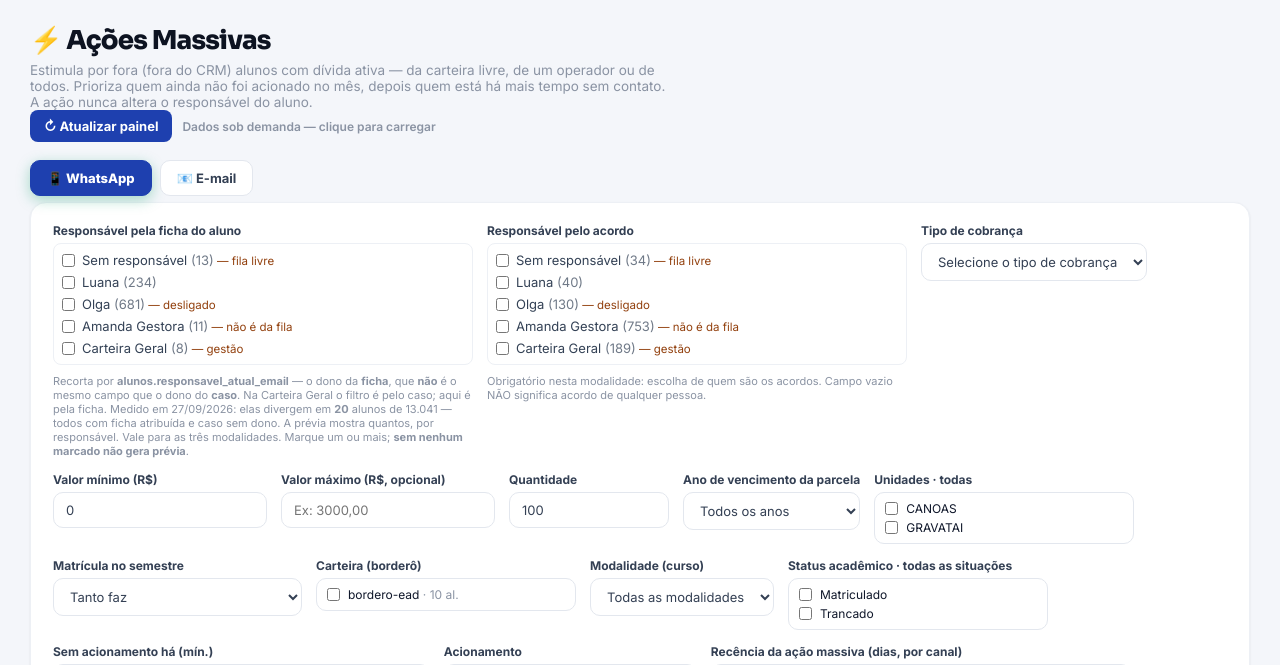
Test: Ações Massivas — liquidados no Prime › sem exclusão pelo Prime, a mensagem não menciona o assunto
Check: the checkbox labelled "Matriculado" is shown, box [799, 588, 812, 601]
Check: the element with test id "resp-caso" is shown, box [53, 243, 473, 365]
Click the checkbox with id "resp-caso-SEM_RESPONSAVEL" at (68, 260), box [62, 254, 75, 266]
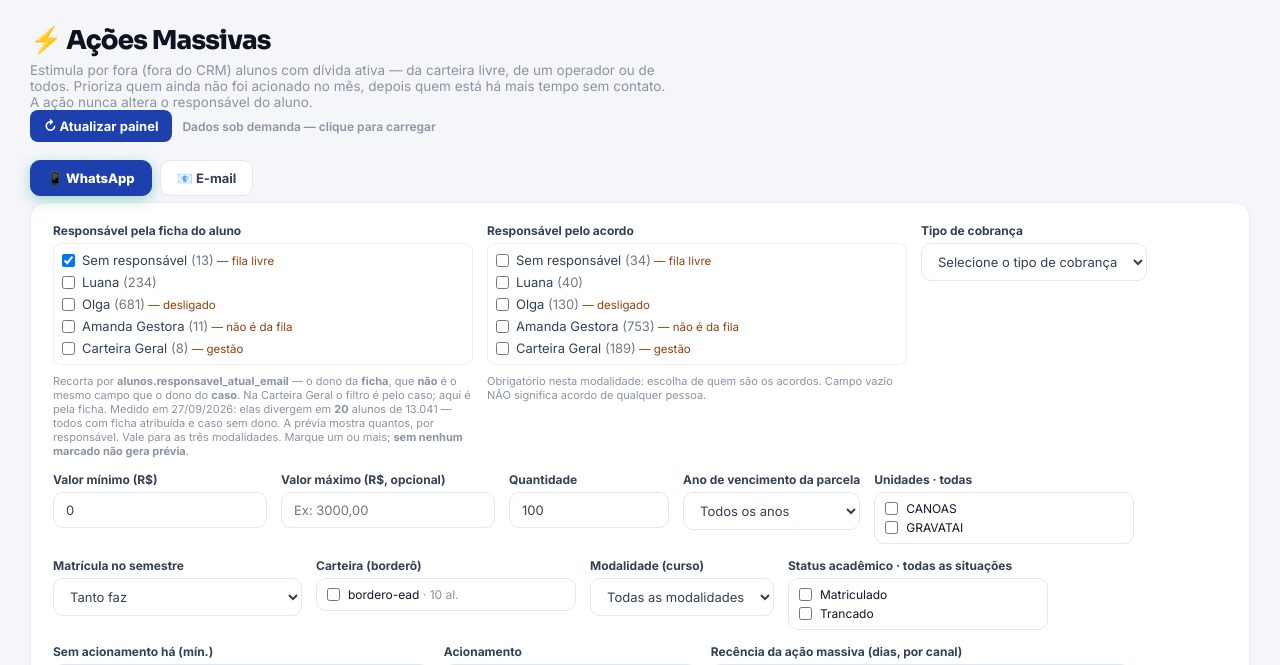
Select "Somente mensalidades" in the dropdown labelled "Tipo de cobrança" at (1034, 262), box [921, 243, 1147, 281]
(page scrolled)
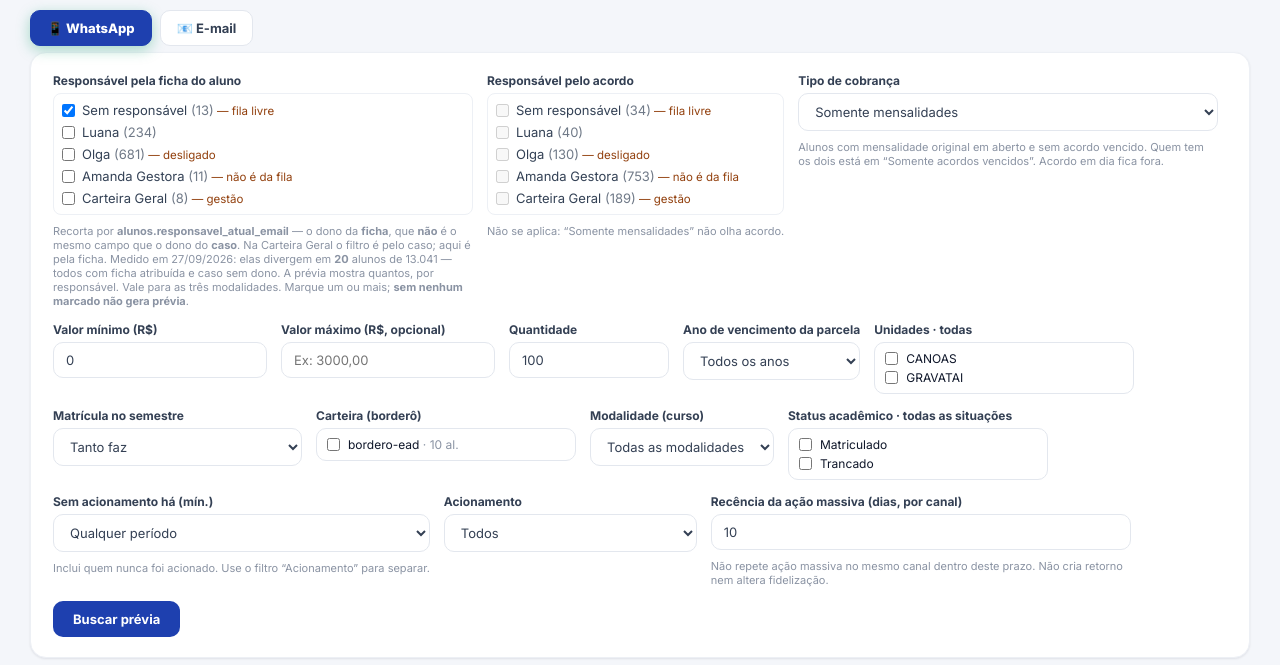
Click the button "Buscar prévia" at (117, 619), box [53, 601, 180, 637]
(page scrolled)
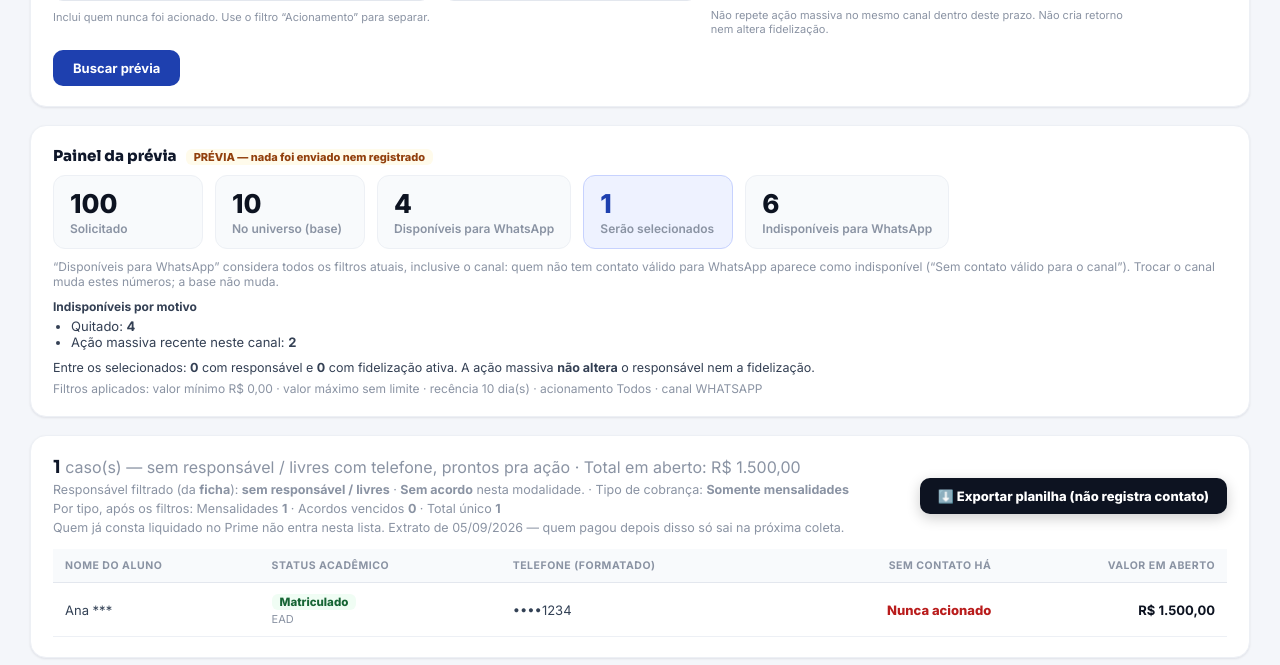
Click the button "⬇️ Exportar planilha (não registra contato)" at (1073, 496), box [920, 478, 1227, 514]
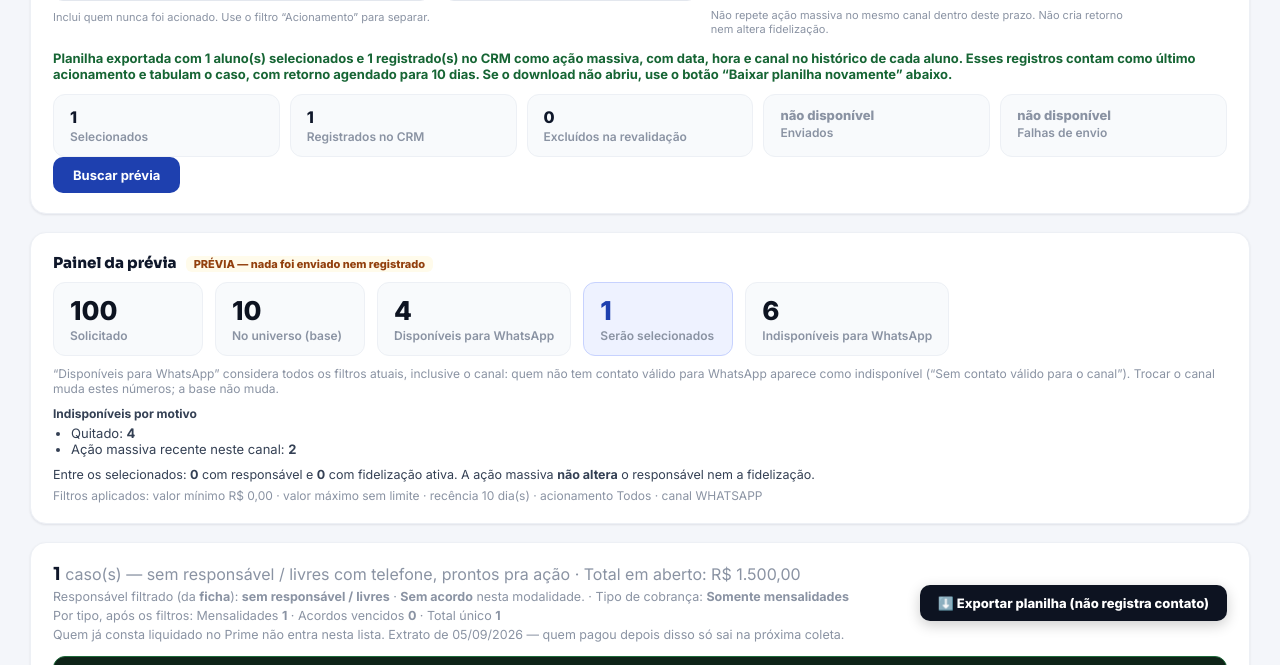
Check: the text "Planilha exportada com 1 aluno(s)" is shown, box [53, 50, 1196, 82]
